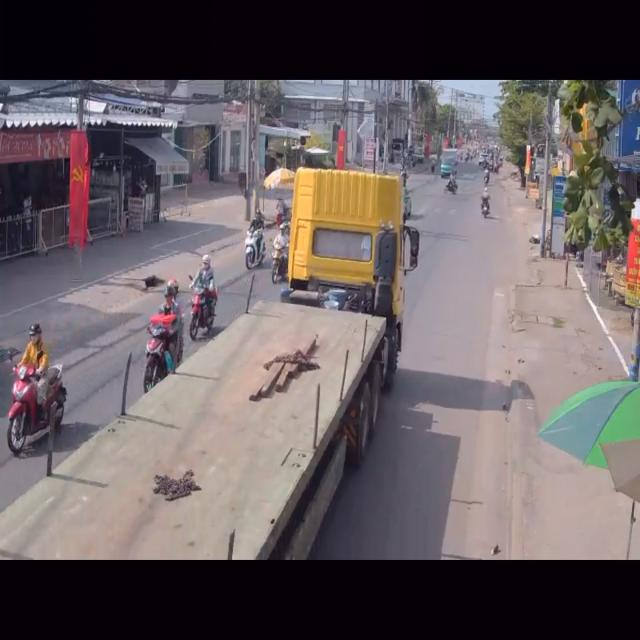motorbike: (4, 322, 64, 452), (142, 286, 184, 394), (189, 253, 220, 342), (246, 209, 266, 270), (272, 236, 288, 286)
truck: (2, 168, 420, 562)
